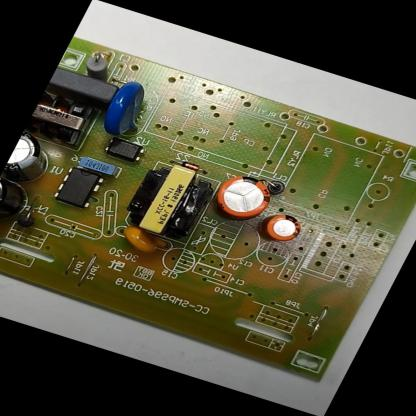Cap1: (205, 166, 280, 224)
Cap2: (257, 207, 311, 249)
Cap3: (2, 130, 65, 186)
Cap4: (0, 173, 42, 229)
MOSFET: (47, 162, 112, 214)
Mov: (92, 73, 166, 143)
Resistor: (78, 47, 126, 84)
Transformer: (117, 153, 221, 245), (24, 85, 103, 149)
